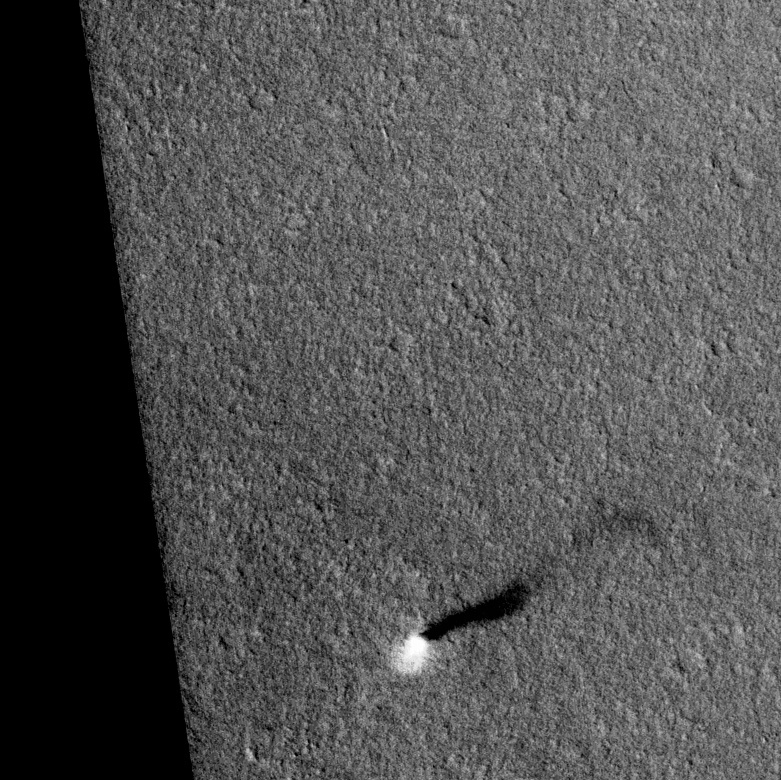dust_devil: (389, 577, 535, 676)
